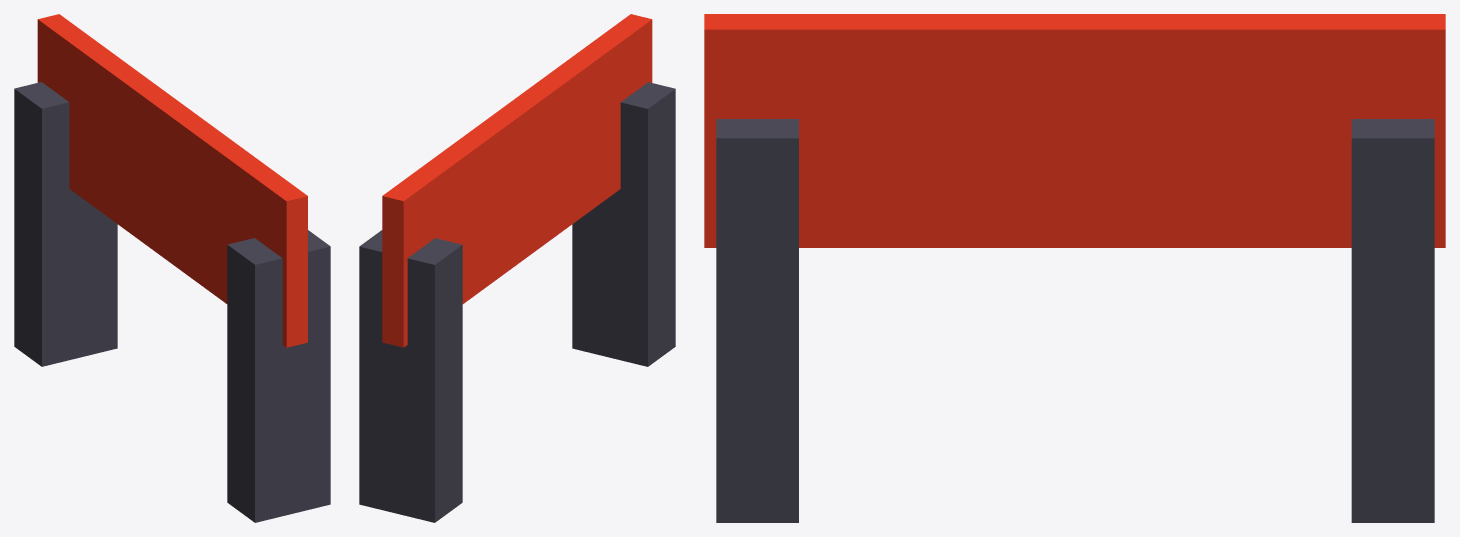
Rendered from JumpBarr.fbx.
3 renders of one model, left to right at view 1: azimuth 30°, elevation 25°; view 2: azimuth 150°, elevation 25°; view 3: azimuth 270°, elevation 25°, orthographic. The views are drawn at different scales.
Visible parts, largest first — view 1: JumpBarrier; view 2: JumpBarrier; view 3: JumpBarrier.
Part boxes in pixels (left/top/right/bottom): JumpBarrier: left=14, top=14, right=330, bottom=522; JumpBarrier: left=359, top=14, right=675, bottom=522; JumpBarrier: left=704, top=14, right=1445, bottom=522.
Bounding box in the file's own units: 35.11 × 141 × 200.
1 material, 1 textured.
